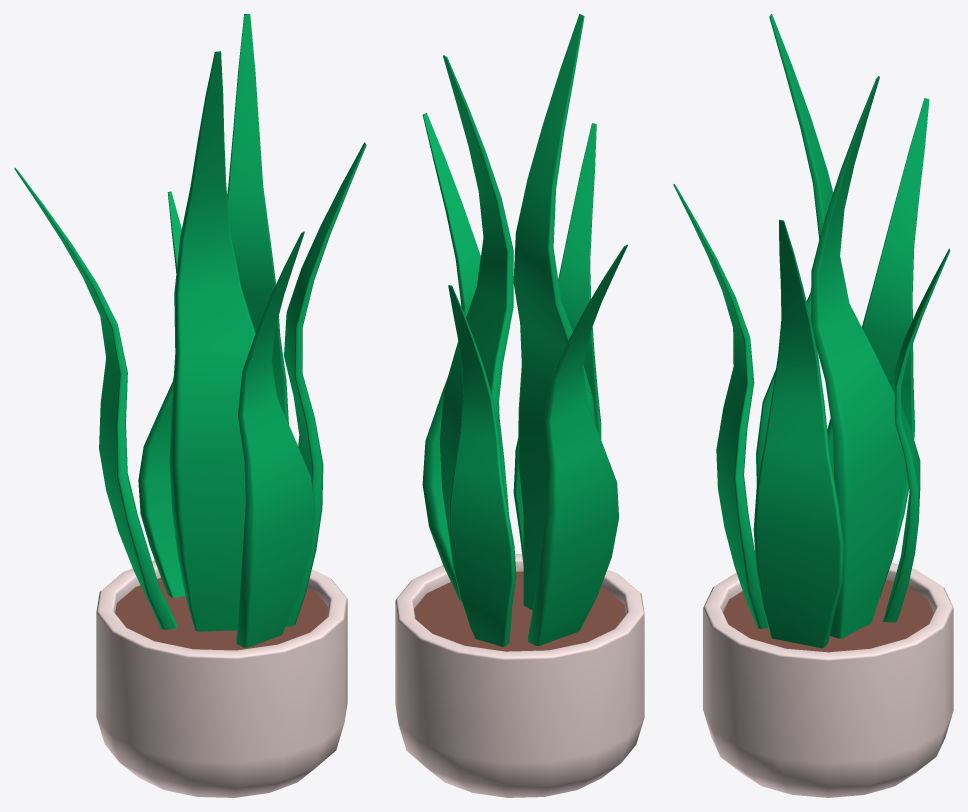
File: Town_5_Plant_2.glb
3 renders of one model, left to right at view 1: azimuth 30°, elevation 25°; view 2: azimuth 150°, elevation 25°; view 3: azimuth 270°, elevation 25°, orthographic.
Parts seen in each view (by area): view 1: Town_5_Plant_2; view 2: Town_5_Plant_2; view 3: Town_5_Plant_2.
Boxes of the visible parts, x1=… form: Town_5_Plant_2: x1=14, y1=14, x2=366, y2=797; Town_5_Plant_2: x1=395, y1=14, x2=644, y2=797; Town_5_Plant_2: x1=673, y1=14, x2=953, y2=797.
Size of the model in its own units: 1.09 by 2.79 by 0.967.
1 material, 1 textured.
